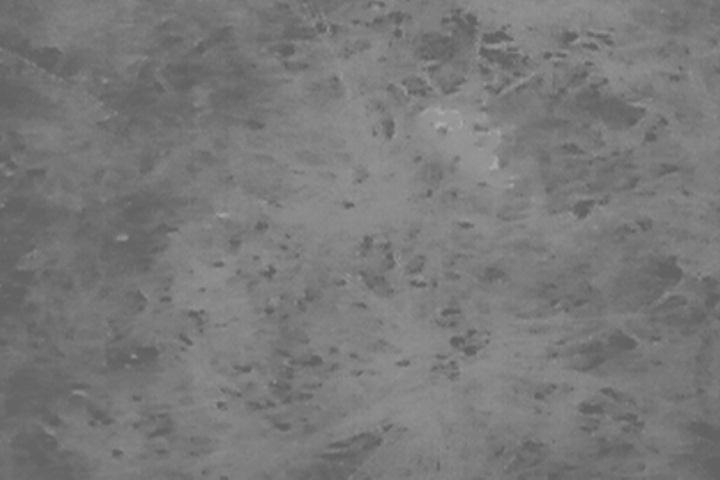landmine: (418, 95, 517, 171)
